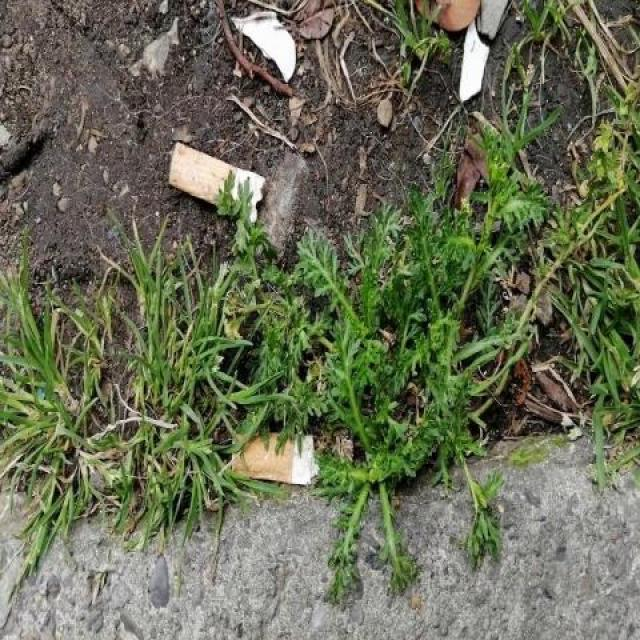non-organic waste: (164, 136, 268, 232), (225, 424, 324, 487)
